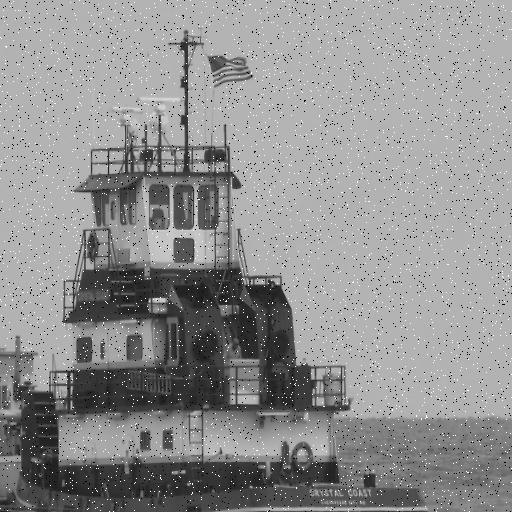tugboat: (6, 21, 442, 512)
